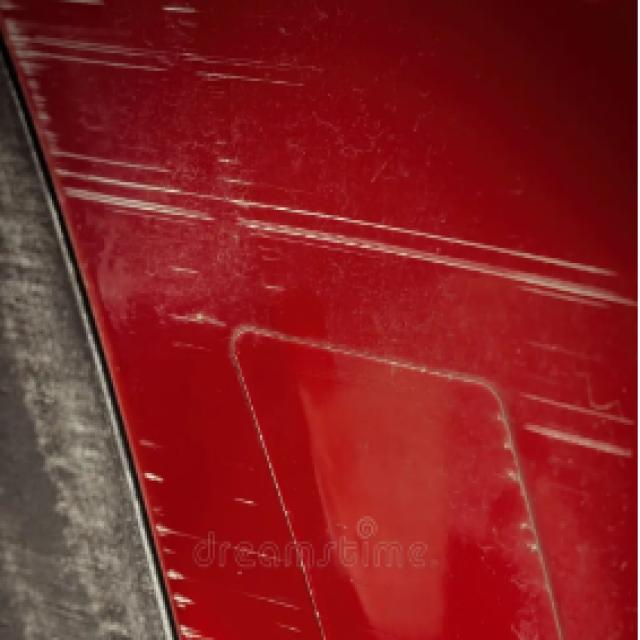scratch: (8, 24, 625, 629)
